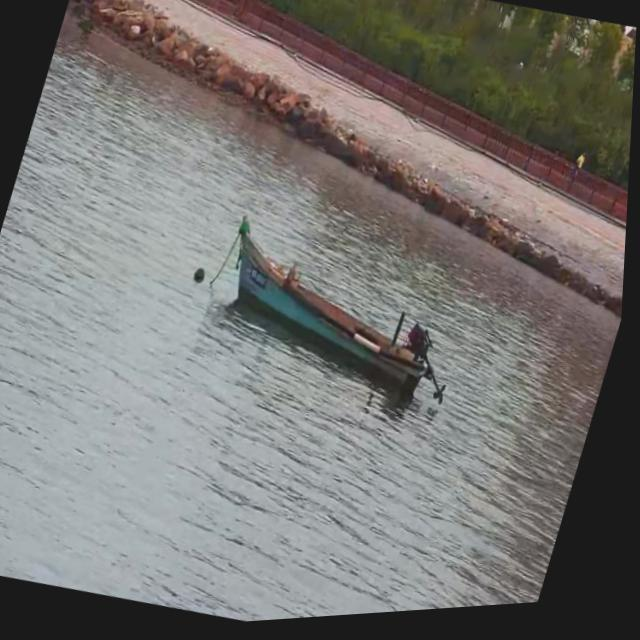ship2: (237, 222, 438, 415)
